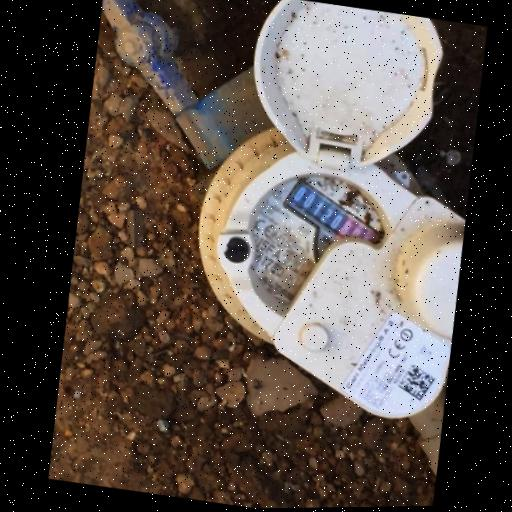0: (294, 186, 321, 215), (285, 180, 311, 208), (323, 207, 348, 234)
1: (305, 193, 329, 221)
2: (314, 201, 339, 228)
8: (335, 214, 357, 240)
border_water_meter_number: (273, 175, 390, 266)
